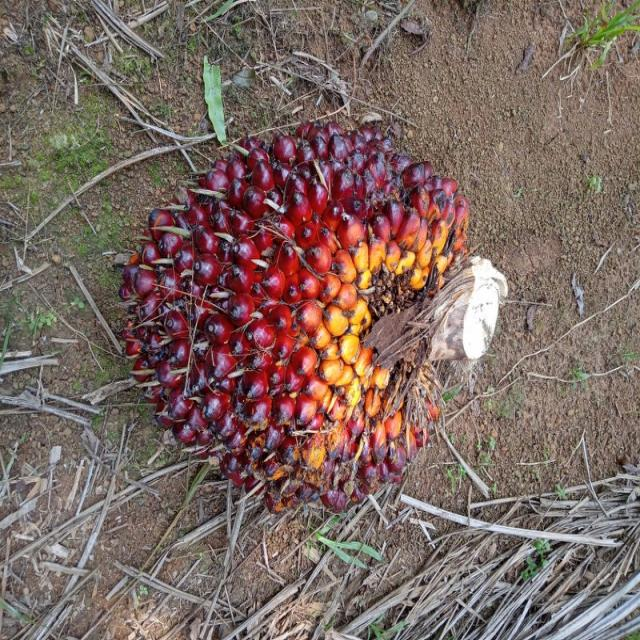fraksi 1: (83, 83, 556, 584)
